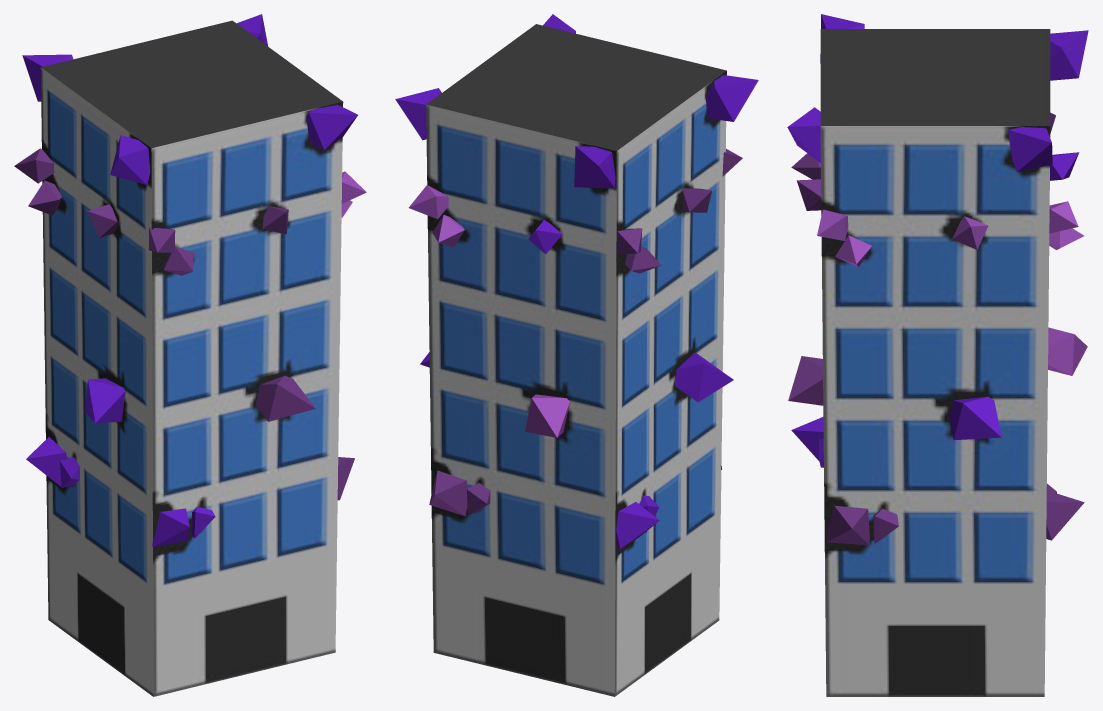
The model's file is environment_building_damaged_asset.fbx.
The picture shows the model from 3 angles, left to right: view 1: azimuth 30°, elevation 25°; view 2: azimuth 150°, elevation 25°; view 3: azimuth 270°, elevation 25°; orthographic projection. The views are drawn at different scales.
Parts seen in each view (by area): view 1: Building_damaged; view 2: Building_damaged; view 3: Building_damaged.
Boxes of the visible parts, <box> form: Building_damaged: <box>14,14,366,696</box>; Building_damaged: <box>395,14,758,696</box>; Building_damaged: <box>787,14,1088,696</box>.
Bounding box in the file's own units: 20.29 × 42.07 × 20.04.
